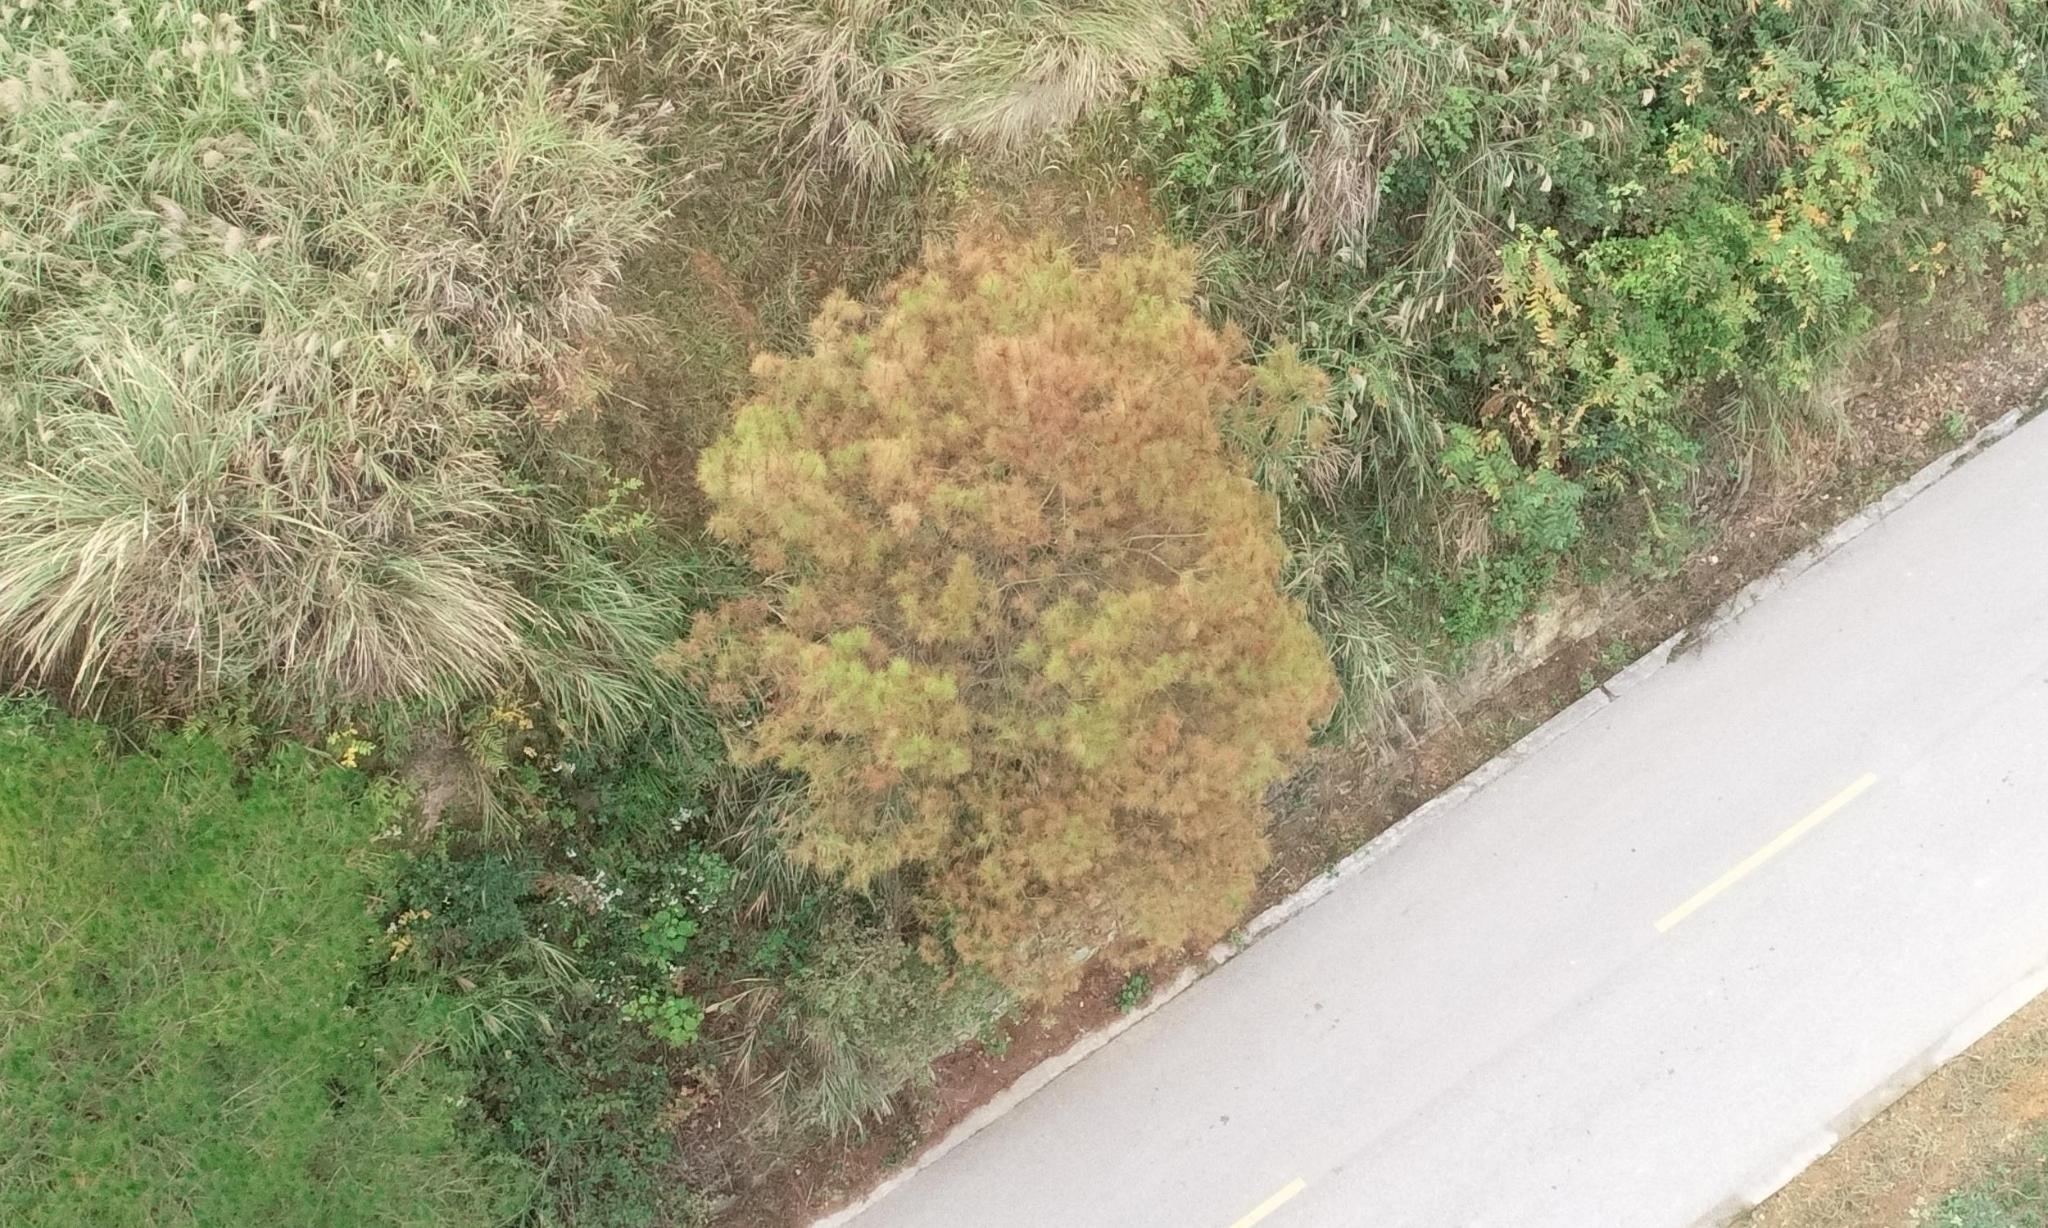heavy: (689, 232, 1343, 987)
